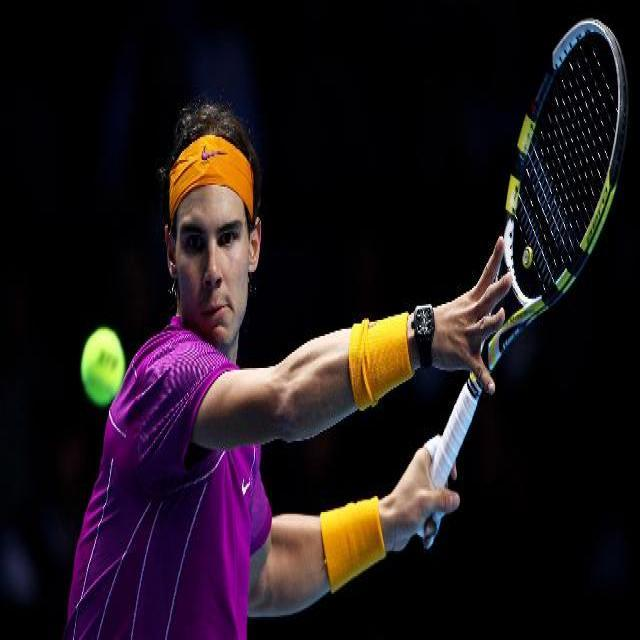tennis-ball: (80, 327, 125, 405)
